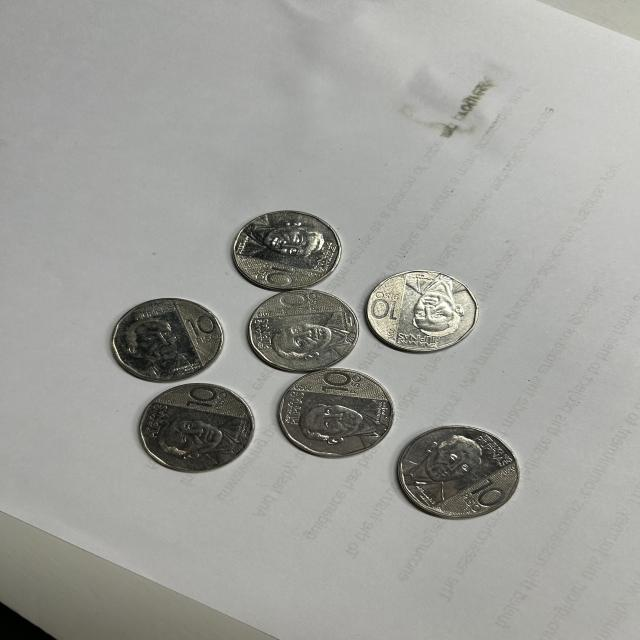10_New_Front: (459, 476, 516, 512), (182, 312, 228, 349), (312, 370, 366, 398), (252, 260, 298, 291), (370, 285, 400, 329), (171, 388, 223, 413), (275, 294, 325, 315)
